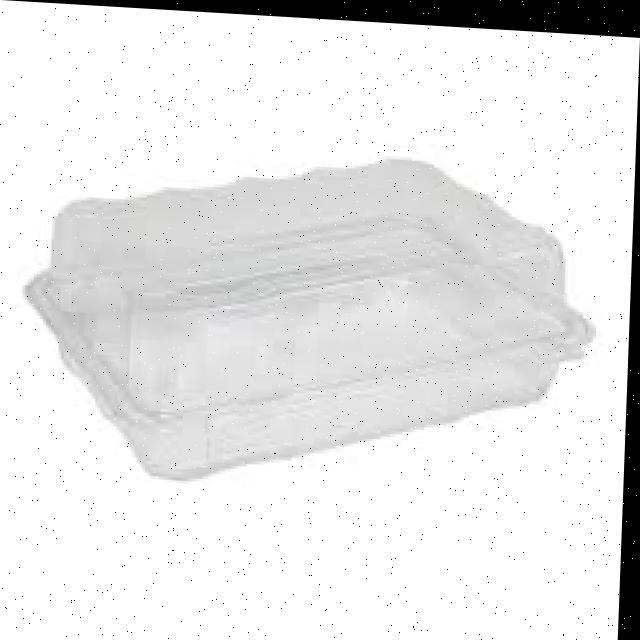disposable: (30, 135, 612, 503)
